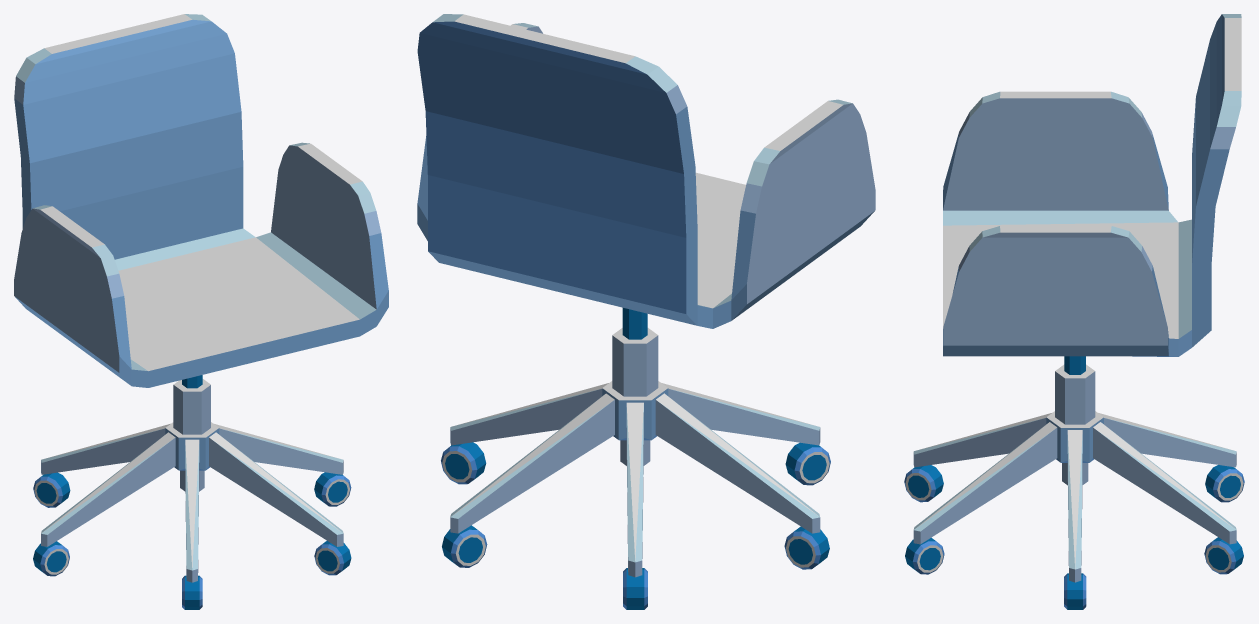
File: Prop_Chair_Alternate.fbx
3 views of the same model, side by side, from view 1: azimuth 30°, elevation 25°; view 2: azimuth 150°, elevation 25°; view 3: azimuth 270°, elevation 25° (orthographic). The views are drawn at different scales.
Parts seen in each view (by area): view 1: Chair; view 2: Chair; view 3: Chair.
Boxes of the visible parts, bbox=[...] form: Chair: bbox=[14, 14, 388, 609]; Chair: bbox=[417, 14, 875, 609]; Chair: bbox=[904, 14, 1244, 609].
Bounding box in the file's own units: 423 × 586 × 376.
